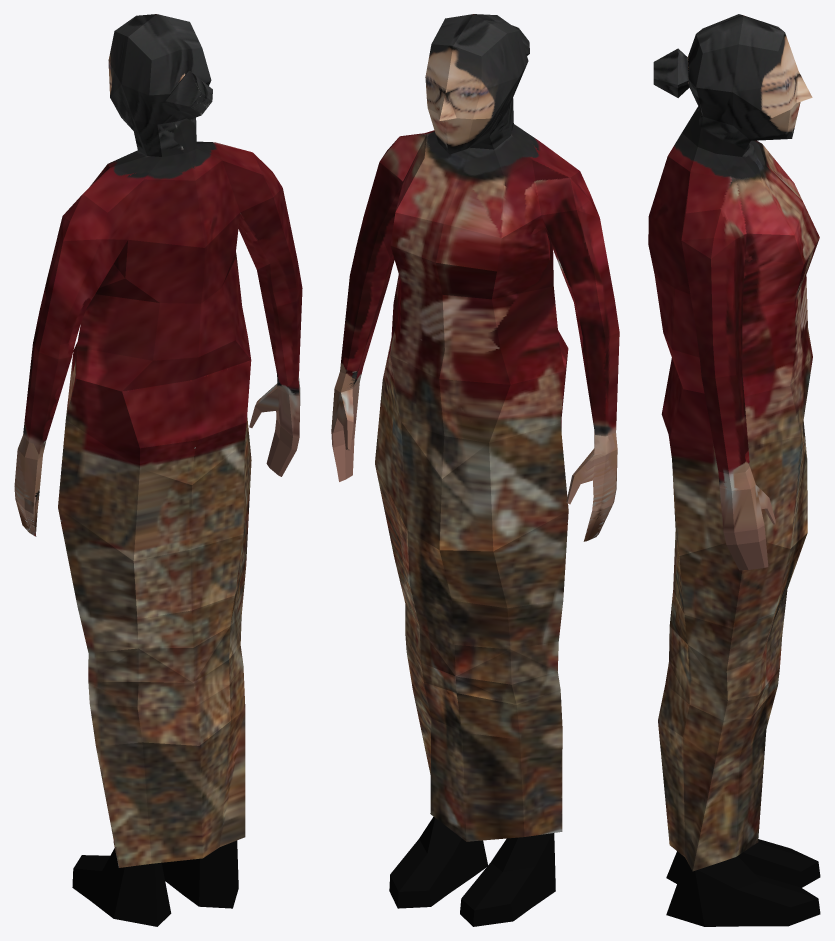
Rendered from AINA NENEK.fbx.
3 views of the same model, side by side, from view 1: azimuth 30°, elevation 25°; view 2: azimuth 150°, elevation 25°; view 3: azimuth 270°, elevation 25° (orthographic).
Visible parts, largest first — view 1: Character_Female_01; view 2: Character_Female_01; view 3: Character_Female_01.
Part boxes in pixels (left/top/right/bottom): Character_Female_01: left=14, top=14, right=302, bottom=926; Character_Female_01: left=331, top=14, right=619, bottom=926; Character_Female_01: left=648, top=14, right=820, bottom=926.
Size of the model in its own units: 60.05 by 182 by 32.26.
